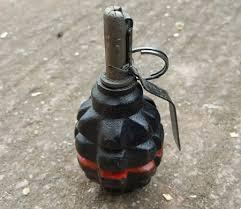Grenade: (72, 4, 181, 193)
